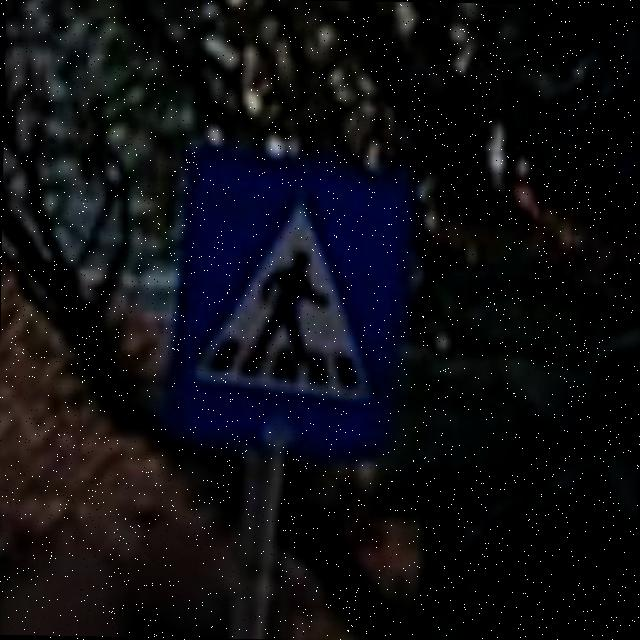Przejscie dla pieszych: (188, 157, 392, 454)
